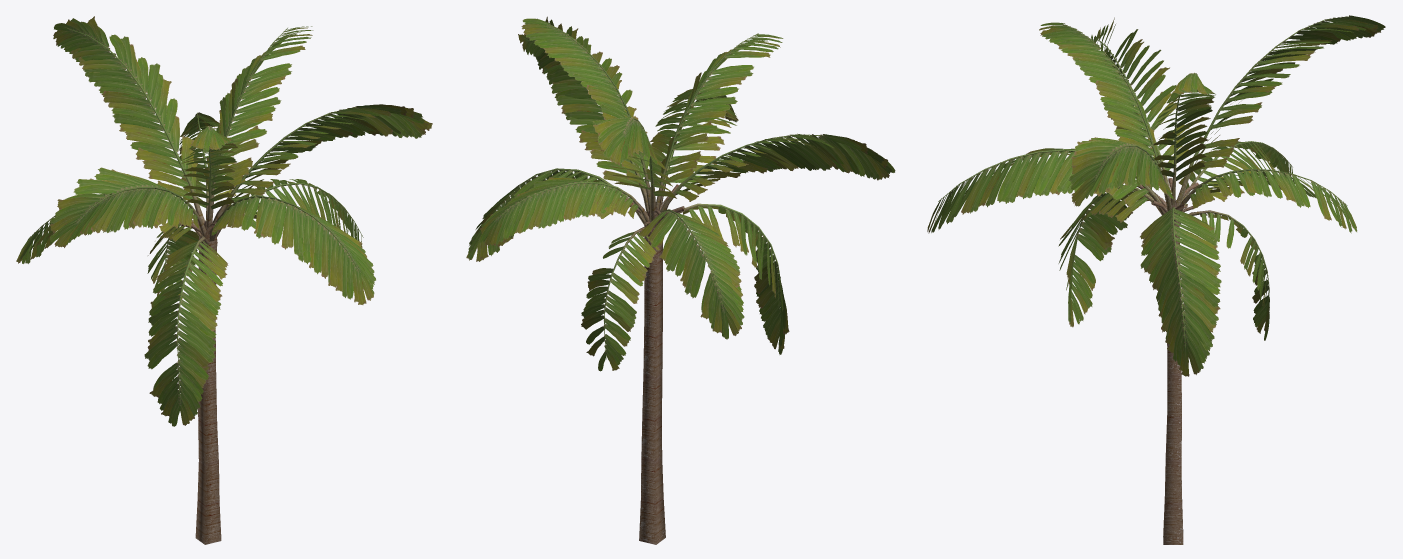
The model's file is AiphanesHorrida.glb.
3 renders of one model, left to right at view 1: azimuth 30°, elevation 25°; view 2: azimuth 150°, elevation 25°; view 3: azimuth 270°, elevation 25°, orthographic. The views are drawn at different scales.
Visible parts, largest first — view 1: Ruffle_Palm__Realistic_LOD3; view 2: Ruffle_Palm__Realistic_LOD3; view 3: Ruffle_Palm__Realistic_LOD3.
Boxes of the visible parts, <box> form: Ruffle_Palm__Realistic_LOD3: <box>16,16,432,544</box>; Ruffle_Palm__Realistic_LOD3: <box>466,16,895,544</box>; Ruffle_Palm__Realistic_LOD3: <box>927,15,1385,544</box>.
Size of the model in its own units: 8.07 by 9.85 by 8.01.
1 material, 1 textured.
